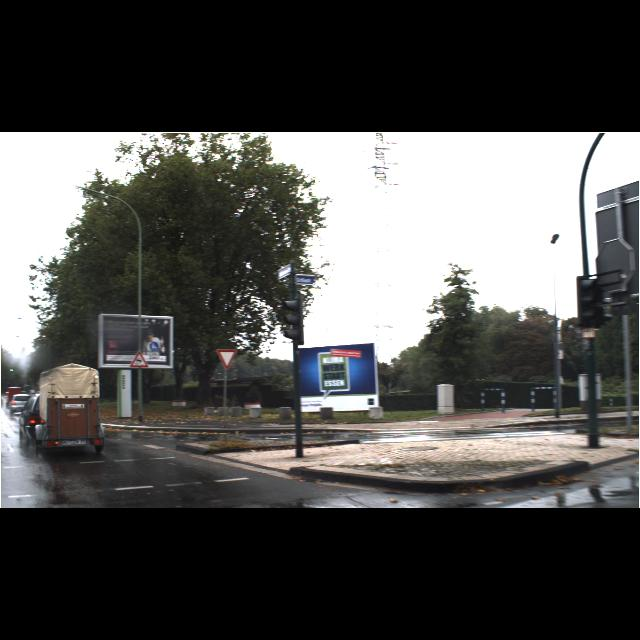danger: (129, 350, 149, 368)
other: (216, 349, 238, 371)
